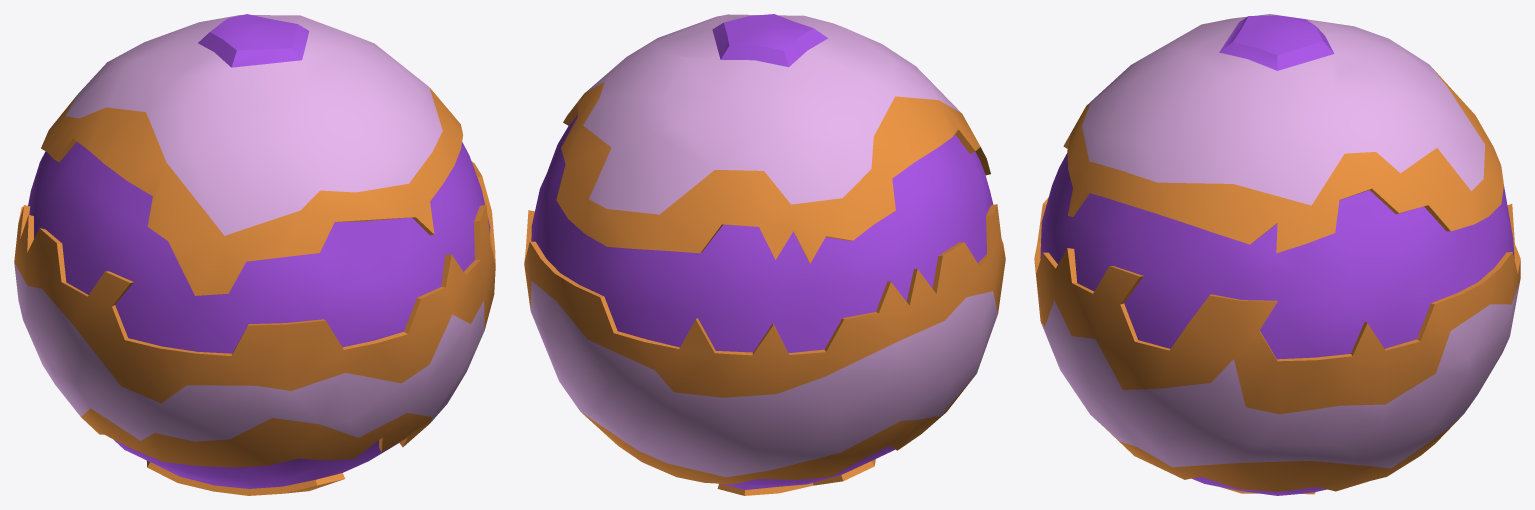
Rendered from Planeta_4.fbx.
3 renders of one model, left to right at view 1: azimuth 30°, elevation 25°; view 2: azimuth 150°, elevation 25°; view 3: azimuth 270°, elevation 25°, orthographic.
Visible parts, largest first — view 1: Toy_Planet_5; view 2: Toy_Planet_5; view 3: Toy_Planet_5.
Part boxes in pixels (x1,y1,x2,y2): Toy_Planet_5: [14, 14, 495, 495]; Toy_Planet_5: [524, 14, 1005, 495]; Toy_Planet_5: [1034, 14, 1520, 495].
Size of the model in its own units: 200 by 204 by 200.
